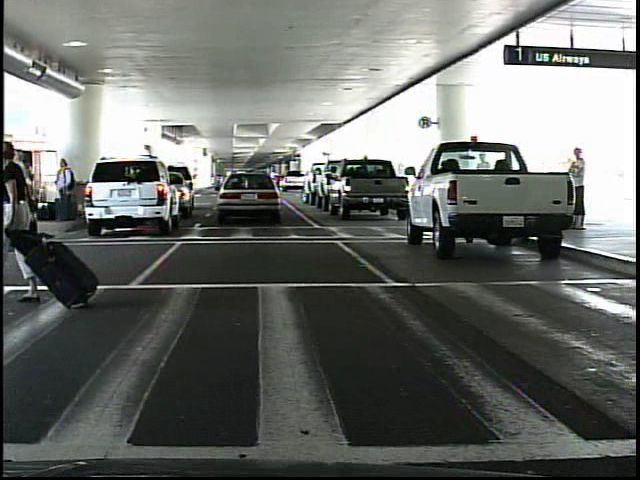person: (0, 141, 40, 289), (557, 148, 593, 231), (13, 152, 35, 226), (52, 157, 74, 223)
